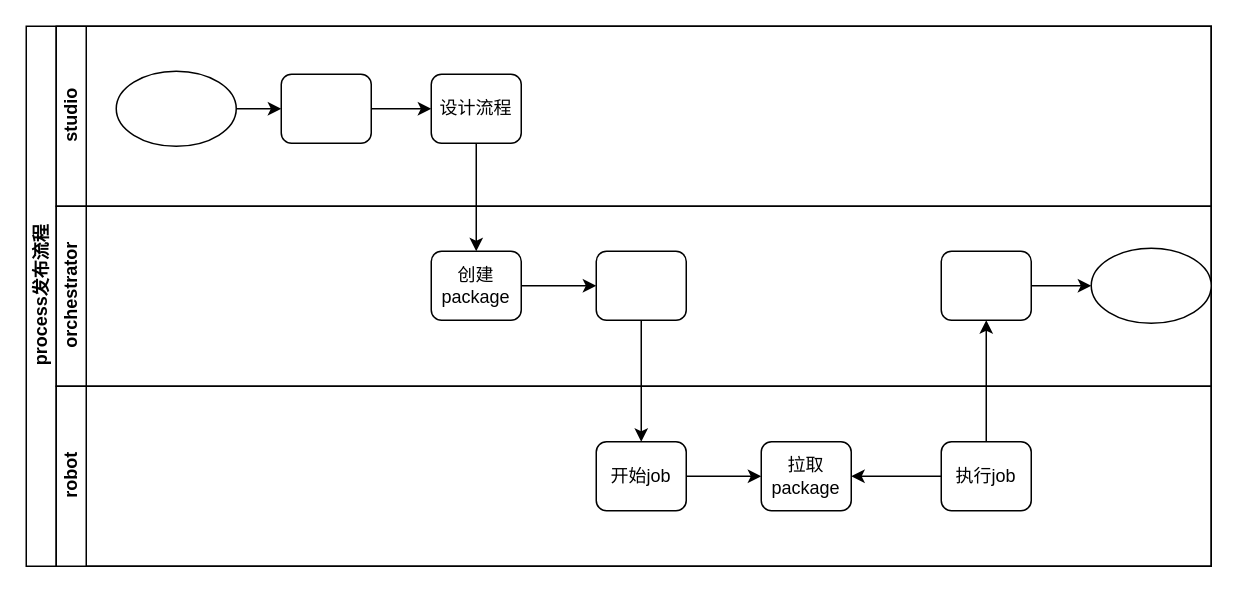
The diagram is 1238 pixels wide and 593 high, and some of its shapes have lost their labels. The centre of each missing label's shape, as x and y in pixels:
"创建process" goes at pixel 640 285.
"创建项目" goes at pixel 325 108.
"开始" goes at pixel 175 108.
"结束" goes at pixel 1150 285.
"通知执行结果" goes at pixel 985 285.
